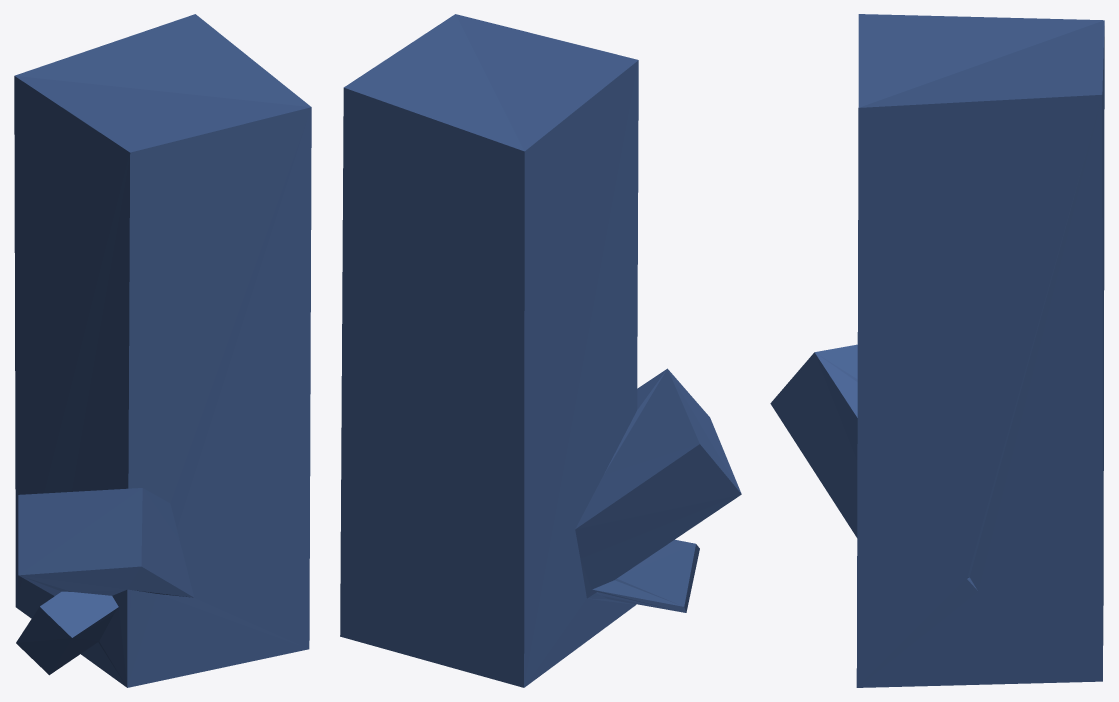
3 views of the same model, side by side, from view 1: azimuth 30°, elevation 25°; view 2: azimuth 150°, elevation 25°; view 3: azimuth 270°, elevation 25° (orthographic). The views are drawn at different scales.
Parts seen in each view (by area): view 1: 135_Cube.561; view 2: 135_Cube.561; view 3: 135_Cube.561.
Boxes of the visible parts, left/top/right/bottom form: 135_Cube.561: left=14, top=14, right=311, bottom=687; 135_Cube.561: left=340, top=14, right=741, bottom=687; 135_Cube.561: left=770, top=14, right=1104, bottom=687.
Bounding box in the file's own units: 6.74 × 12.57 × 6.28.
